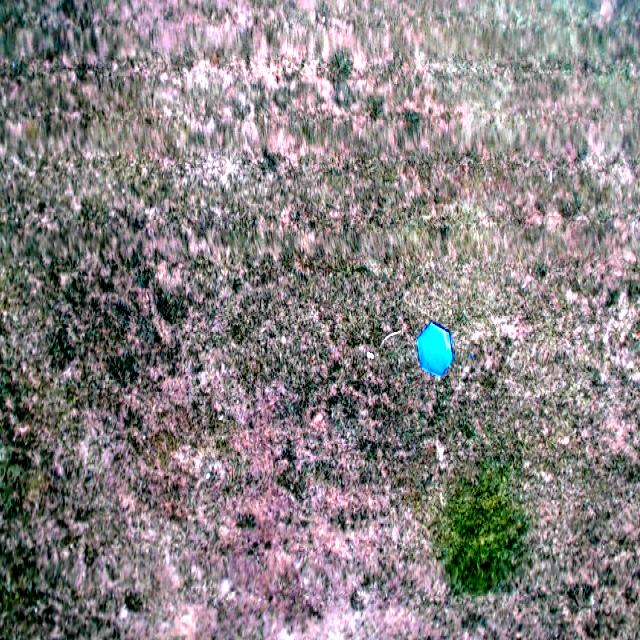blue_hexagon: (418, 320, 453, 375)
